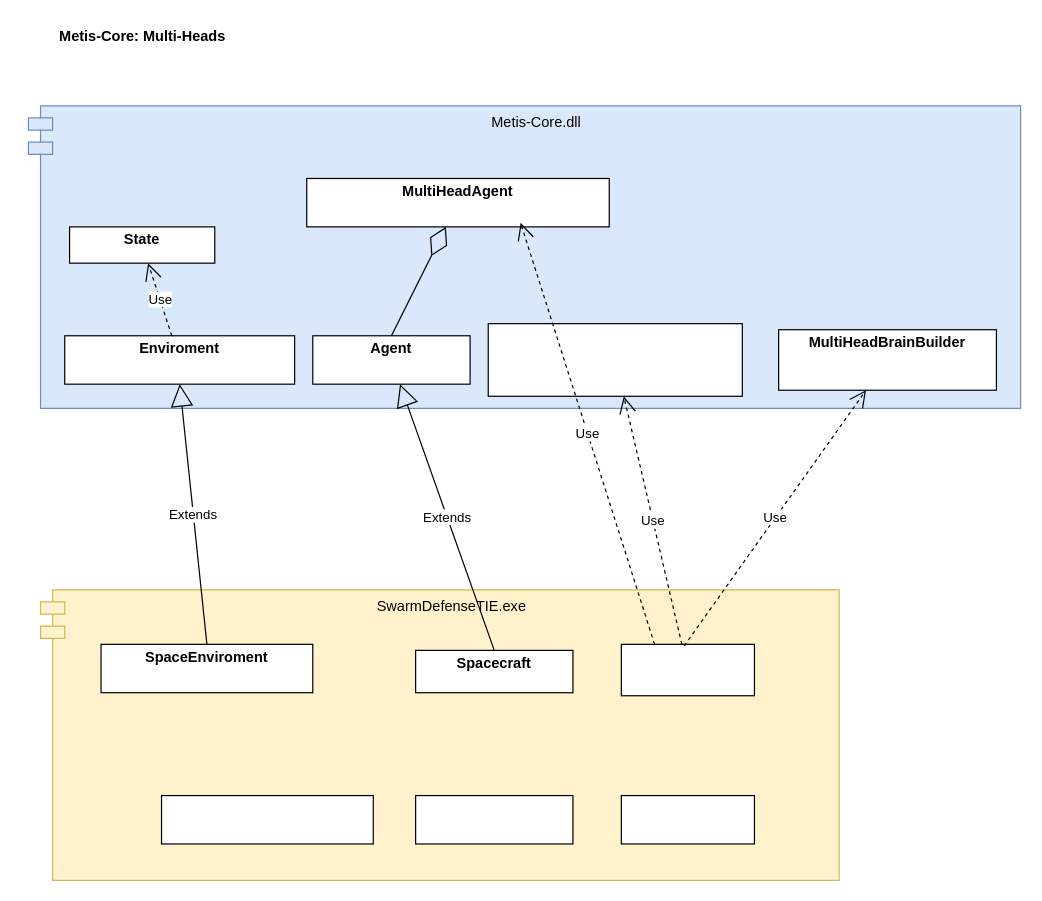
The diagram is 1042 pixels wide and 901 high, and some of its shapes have lost their labels. Here are the shapes that lost their labels. From the top down, the box of each, then its label:
(487, 322, 742, 396): MultiHeadsAgentTrainerDQN
(620, 643, 754, 696): MyView
(160, 794, 373, 844): Sensor
(414, 794, 573, 844): Missile
(620, 794, 754, 844): Laser
